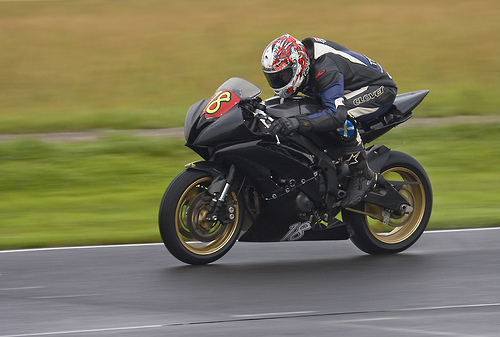helmet: (261, 36, 310, 94)
